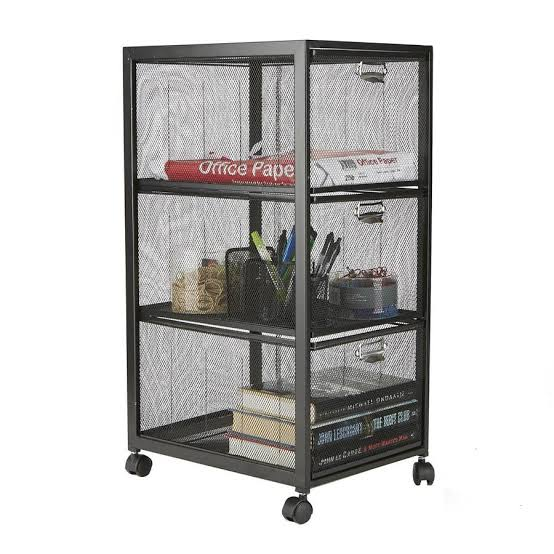Carts: (121, 35, 439, 528)
